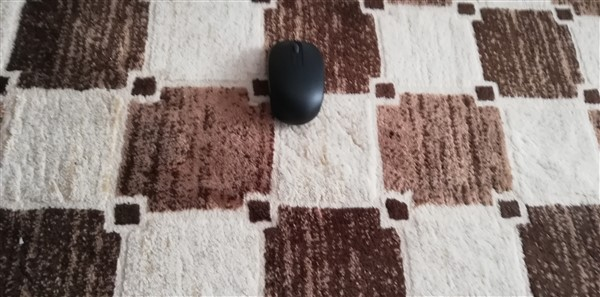mouse: (264, 37, 329, 127)
